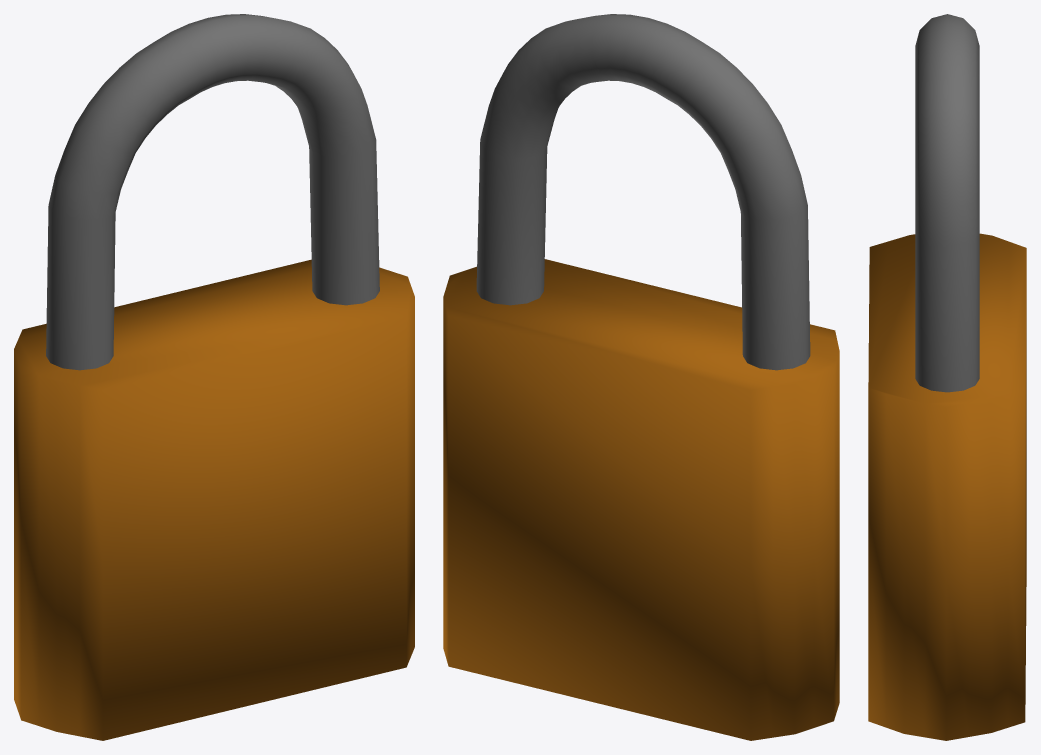
The model's file is candado.FBX.
The picture shows the model from 3 angles, left to right: view 1: azimuth 30°, elevation 25°; view 2: azimuth 150°, elevation 25°; view 3: azimuth 270°, elevation 25°; orthographic projection. The views are drawn at different scales.
Visible parts, largest first — view 1: Cylinder, Torus; view 2: Cylinder, Torus; view 3: Cylinder, Torus.
Part boxes in pixels (x1,y1,x2,y2): Cylinder: [14, 259, 414, 740]; Torus: [46, 14, 379, 370]; Cylinder: [443, 259, 839, 740]; Torus: [476, 14, 810, 370]; Cylinder: [868, 233, 1026, 740]; Torus: [915, 14, 979, 392].
Size of the model in its own units: 184 by 298 by 68.7.
